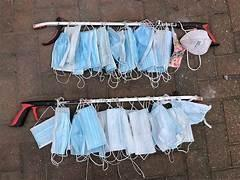Mask: (98, 108, 134, 154), (150, 103, 181, 151), (75, 105, 105, 151), (180, 30, 211, 70), (128, 109, 155, 154), (167, 100, 193, 142), (134, 25, 155, 70), (51, 107, 70, 154), (97, 27, 116, 73), (119, 27, 137, 73), (73, 31, 92, 74), (153, 27, 171, 72), (175, 101, 210, 124), (30, 116, 54, 148), (107, 108, 125, 150), (180, 30, 211, 54), (51, 32, 70, 71), (120, 108, 134, 154), (64, 26, 80, 66), (107, 27, 125, 62), (70, 114, 85, 155), (169, 28, 184, 68), (90, 29, 101, 71), (97, 110, 107, 141)
